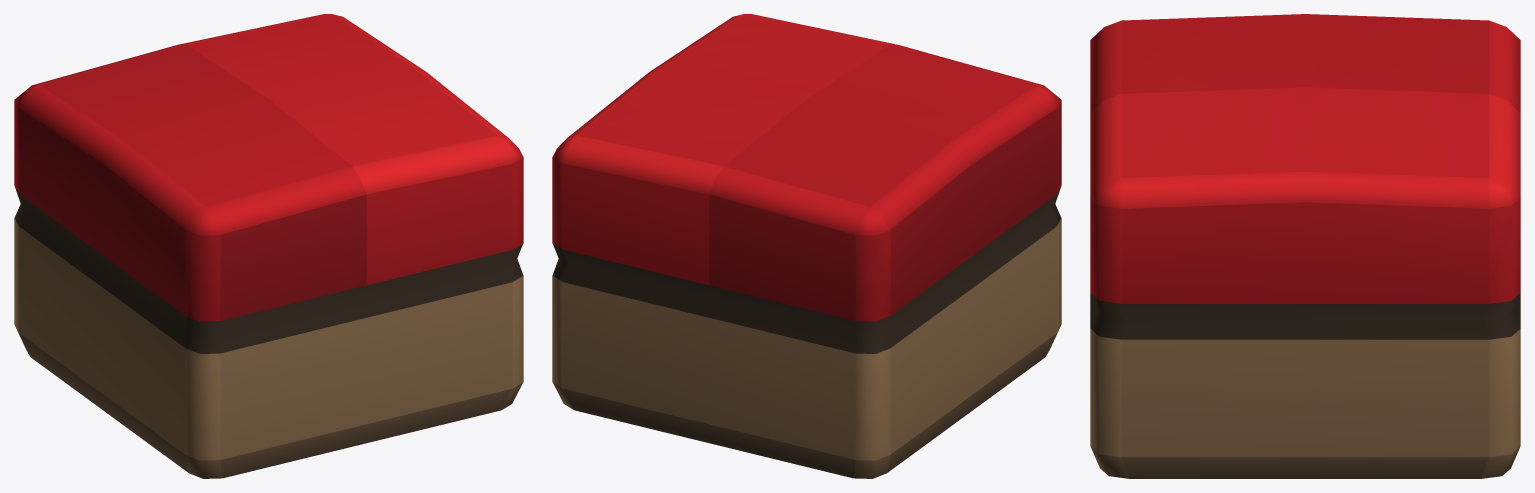
File: seating_outdoor1_1_footrest_half_LOD_setup.fbx
3 renders of one model, left to right at view 1: azimuth 30°, elevation 25°; view 2: azimuth 150°, elevation 25°; view 3: azimuth 270°, elevation 25°, orthographic. The views are drawn at different scales.
Parts seen in each view (by area): view 1: seating_outdoor1_1_footrest_half_LOD0; view 2: seating_outdoor1_1_footrest_half_LOD0; view 3: seating_outdoor1_1_footrest_half_LOD0.
Boxes of the visible parts, bbox=[...] form: seating_outdoor1_1_footrest_half_LOD0: bbox=[14, 14, 523, 478]; seating_outdoor1_1_footrest_half_LOD0: bbox=[552, 14, 1061, 478]; seating_outdoor1_1_footrest_half_LOD0: bbox=[1090, 14, 1520, 478].
Size of what is drawn, in the model's own units: 49.48 by 39.21 by 50.
